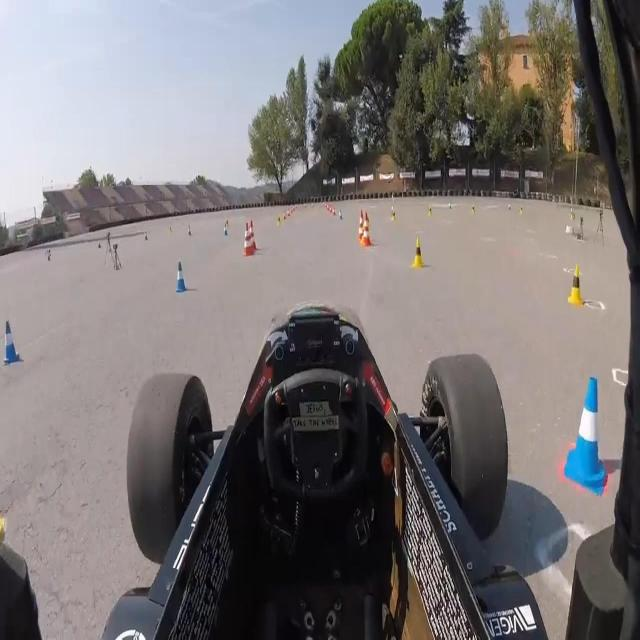blue_cone: (564, 377, 609, 496), (4, 320, 20, 365), (176, 261, 186, 291)
large_orange_cone: (362, 211, 371, 246), (248, 221, 258, 250), (358, 207, 367, 239), (244, 221, 252, 256)
yellow_cone: (568, 266, 584, 305), (412, 237, 425, 271)
